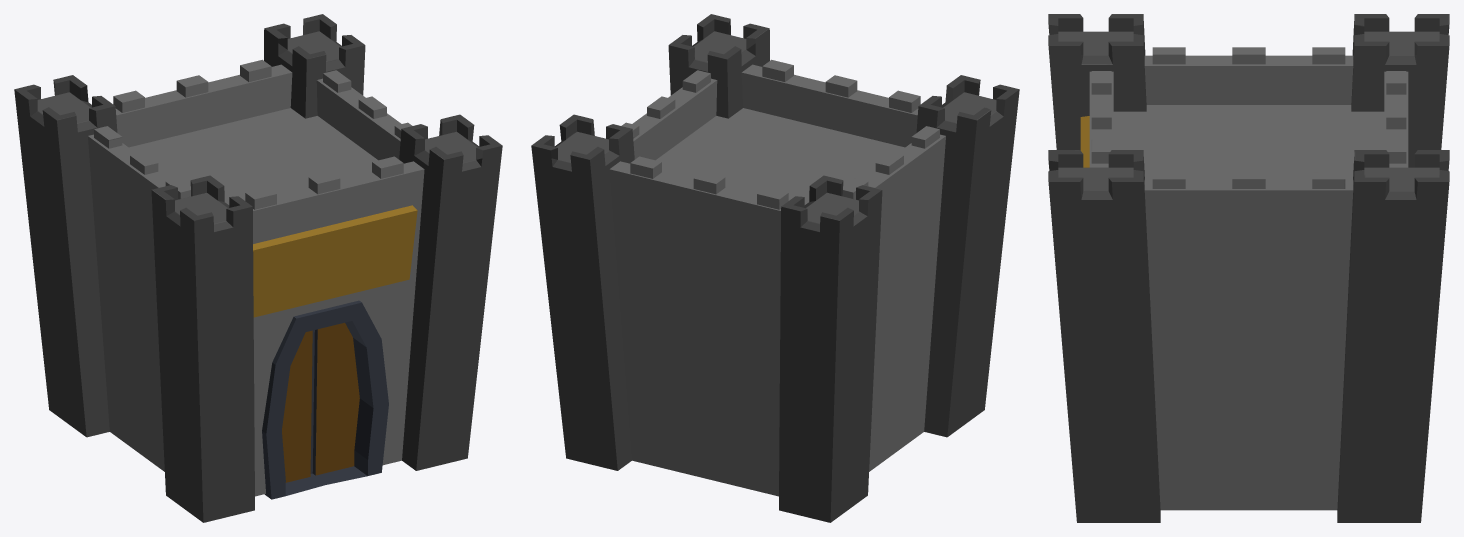
File: baoxian.fbx
The picture shows the model from 3 angles, left to right: view 1: azimuth 30°, elevation 25°; view 2: azimuth 150°, elevation 25°; view 3: azimuth 270°, elevation 25°; orthographic projection. The views are drawn at different scales.
Visible parts, largest first — view 1: 立方体.019; view 2: 立方体.019; view 3: 立方体.019.
Part boxes in pixels (left/top/right/bottom): 立方体.019: left=14, top=14, right=502, bottom=522; 立方体.019: left=531, top=14, right=1019, bottom=522; 立方体.019: left=1048, top=14, right=1449, bottom=522.
Size of the model in its own units: 282 by 279 by 285.
1 material, 1 textured.
